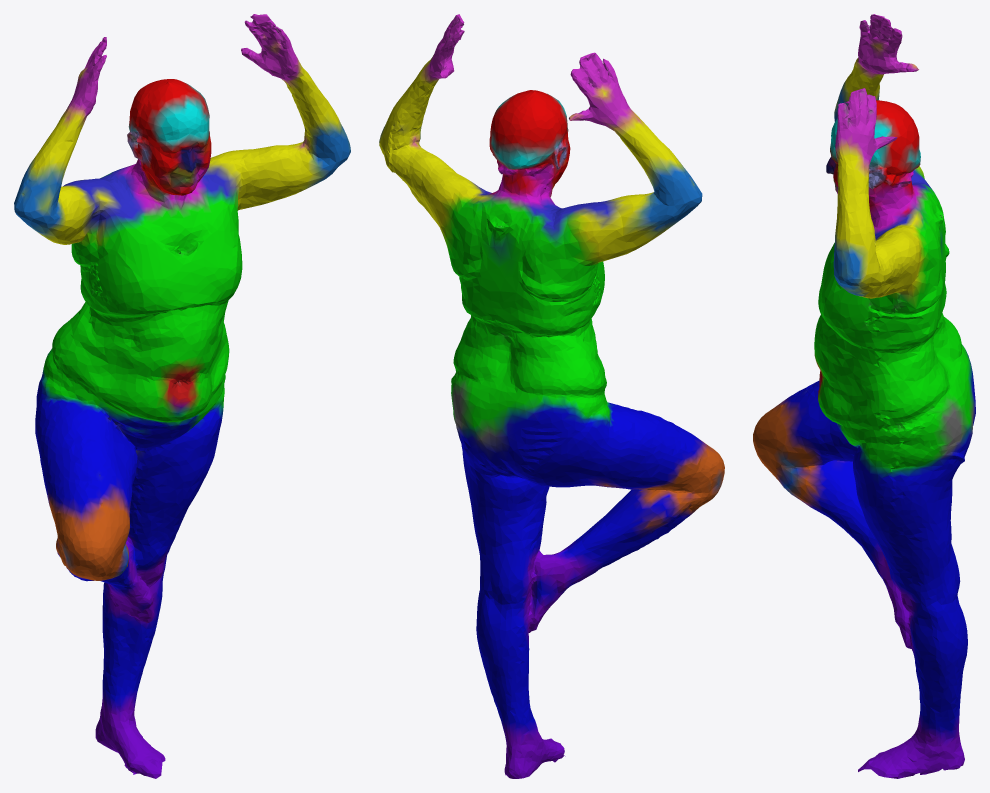
3 views of the same model, side by side, from view 1: azimuth 30°, elevation 25°; view 2: azimuth 150°, elevation 25°; view 3: azimuth 270°, elevation 25° (orthographic). The views are drawn at different scales.
Parts seen in each view (by area): view 1: 47; view 2: 47; view 3: 47.
Boxes of the visible parts, x1,y1,x2,y2 form: 47: (14,14,350,778); 47: (379,14,724,778); 47: (753,14,975,778).
Size of the model in its own units: 0.8309 by 1.77 by 0.4846.
